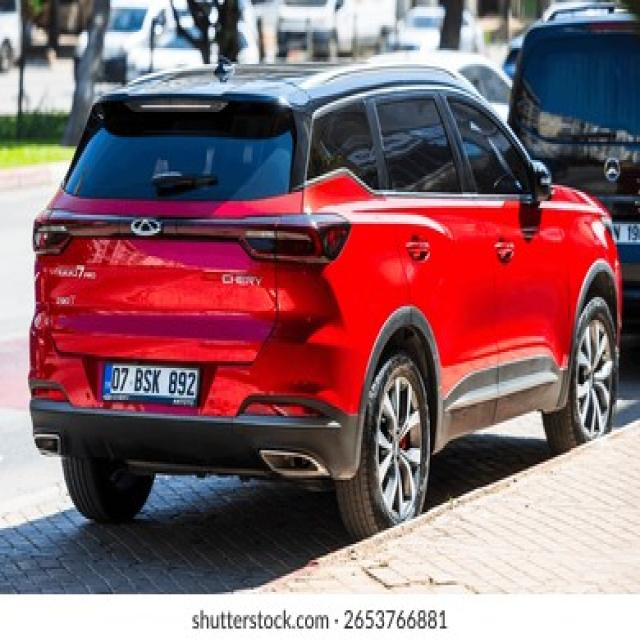mazda: (130, 217, 164, 236)
